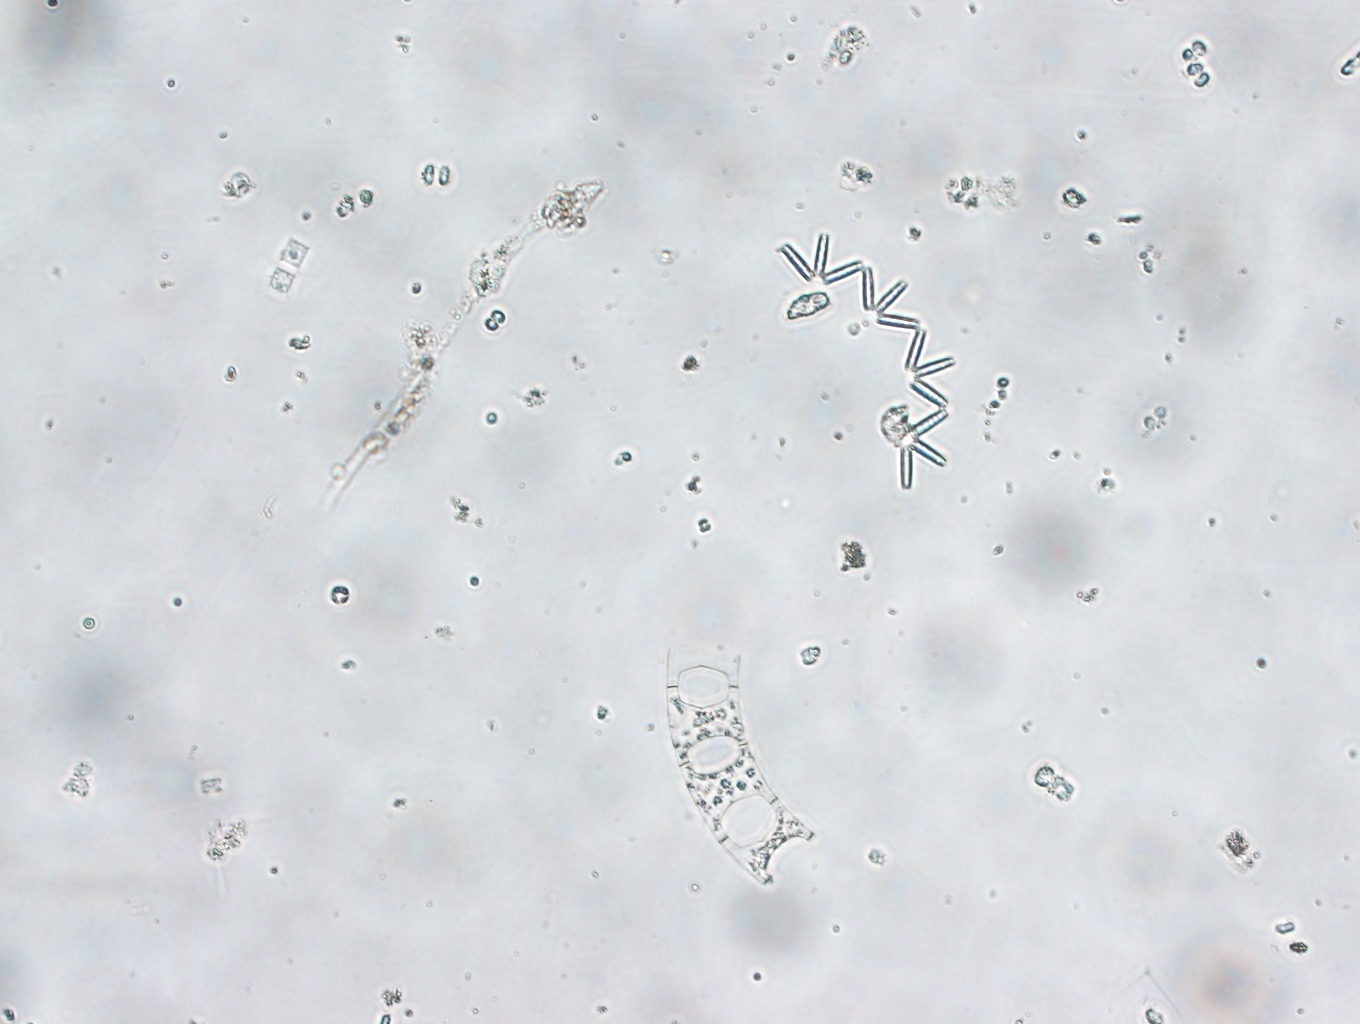eucampia: (650, 641, 815, 899)
thalassionema nitzschioides: (760, 227, 961, 493)
